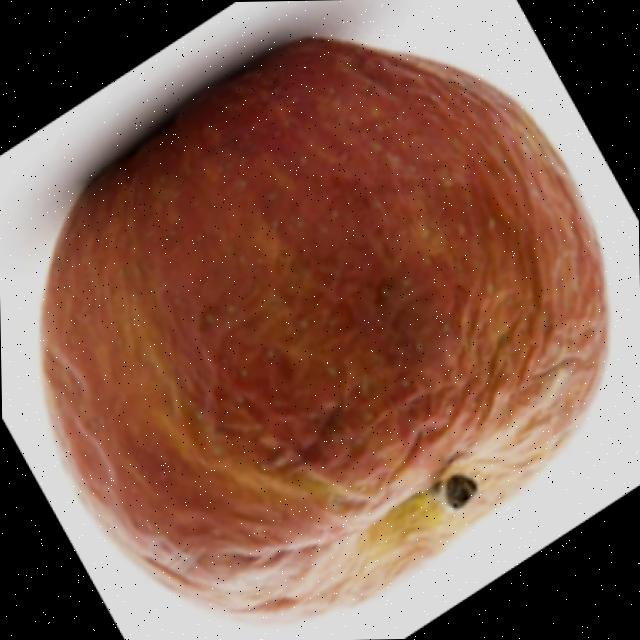overripe: (30, 27, 622, 633)
